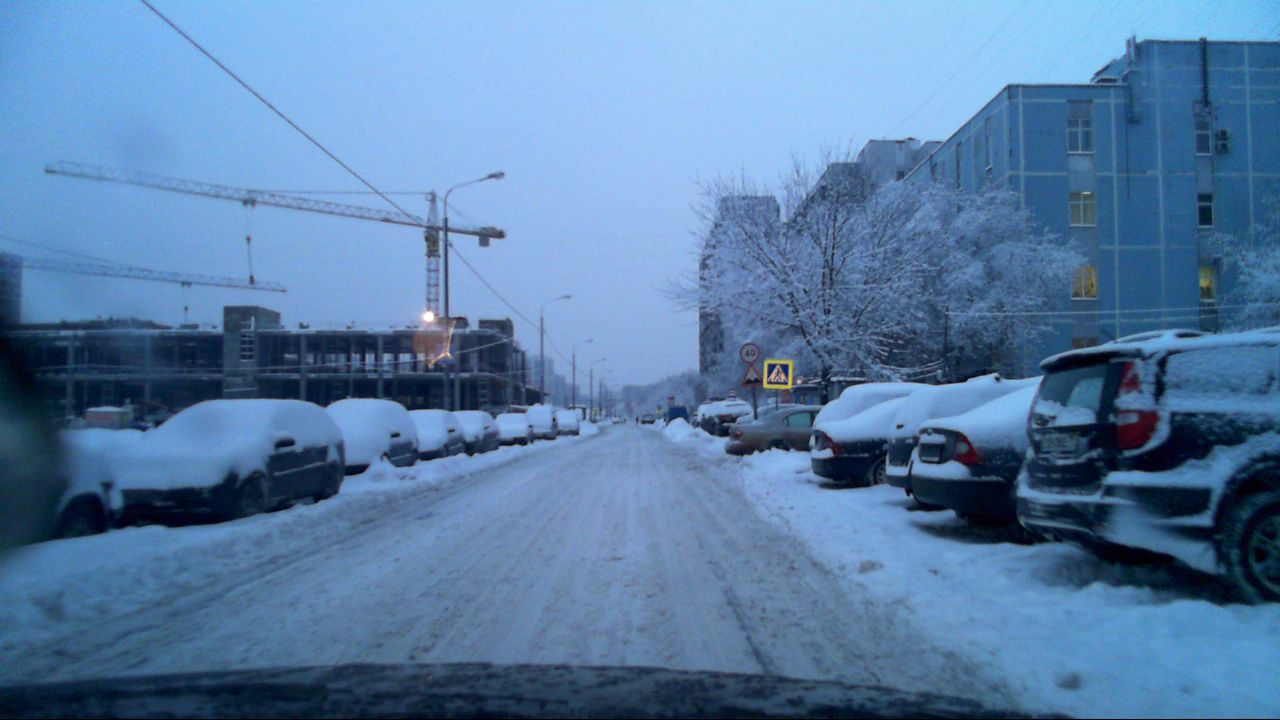speed_warning_40: (738, 343, 759, 363)
